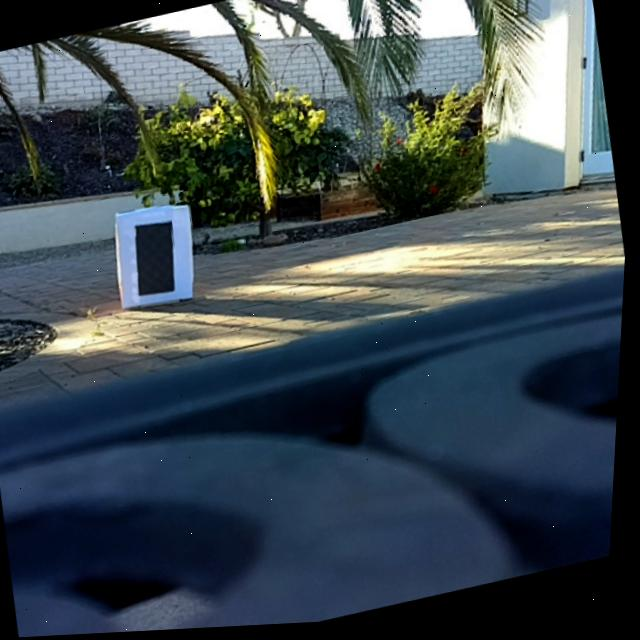led: (134, 218, 183, 304)
